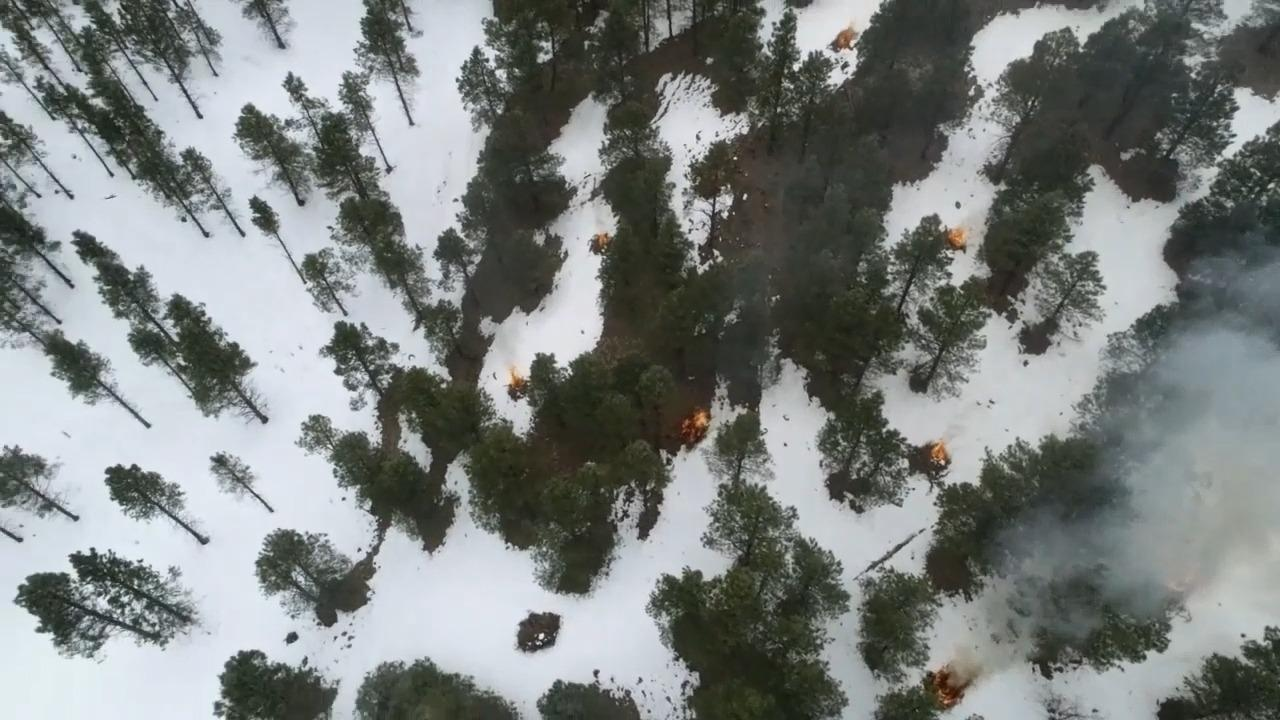fire: (672, 396, 712, 450), (924, 664, 973, 703), (924, 438, 955, 472), (948, 218, 977, 250)
smoke: (1069, 255, 1280, 483), (957, 483, 1280, 609)
